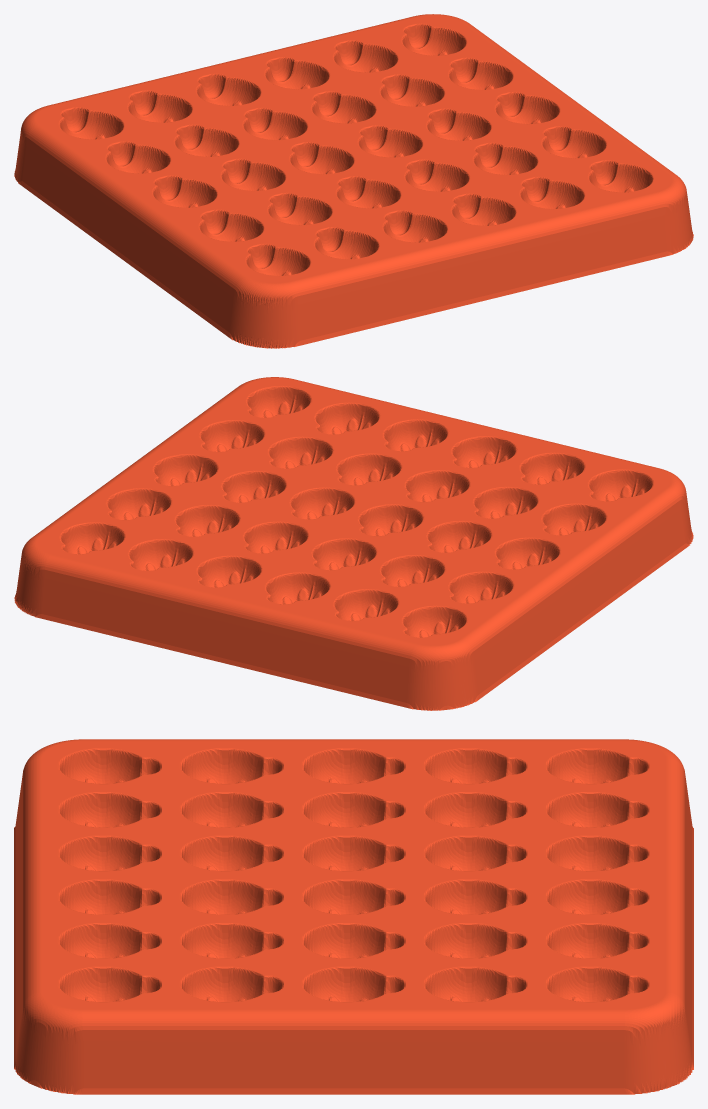
File: mold.glb
The picture shows the model from 3 angles, top to bottom: view 1: azimuth 30°, elevation 25°; view 2: azimuth 150°, elevation 25°; view 3: azimuth 270°, elevation 25°; orthographic projection. The views are drawn at different scales.
Visible parts, largest first — view 1: geometry_0; view 2: geometry_0; view 3: geometry_0.
Part boxes in pixels (x1,y1,x2,y2): geometry_0: (14, 14, 693, 348); geometry_0: (14, 377, 693, 710); geometry_0: (14, 739, 693, 1094).
Bounding box in the file's own units: 0.0896 × 0.0105 × 0.0882.
